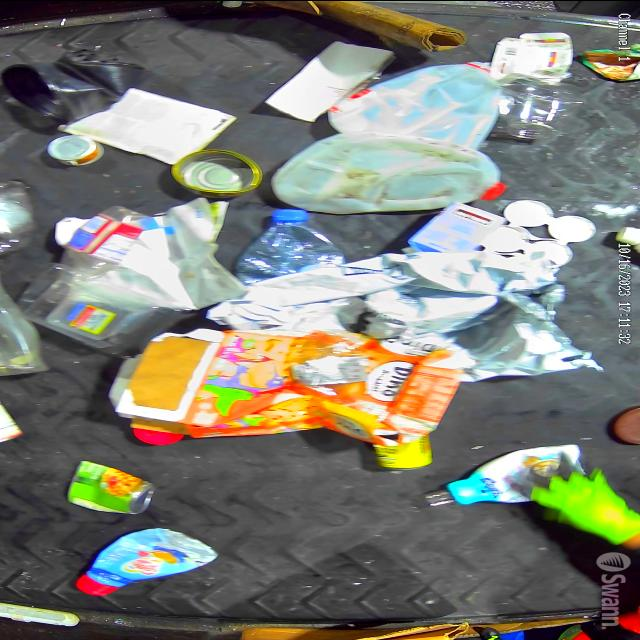can: (171, 148, 265, 196), (70, 462, 158, 512), (44, 136, 102, 166)
milk_jug: (276, 134, 510, 210), (333, 52, 497, 152)
plastic_bottle: (240, 208, 340, 298), (61, 203, 154, 276)
